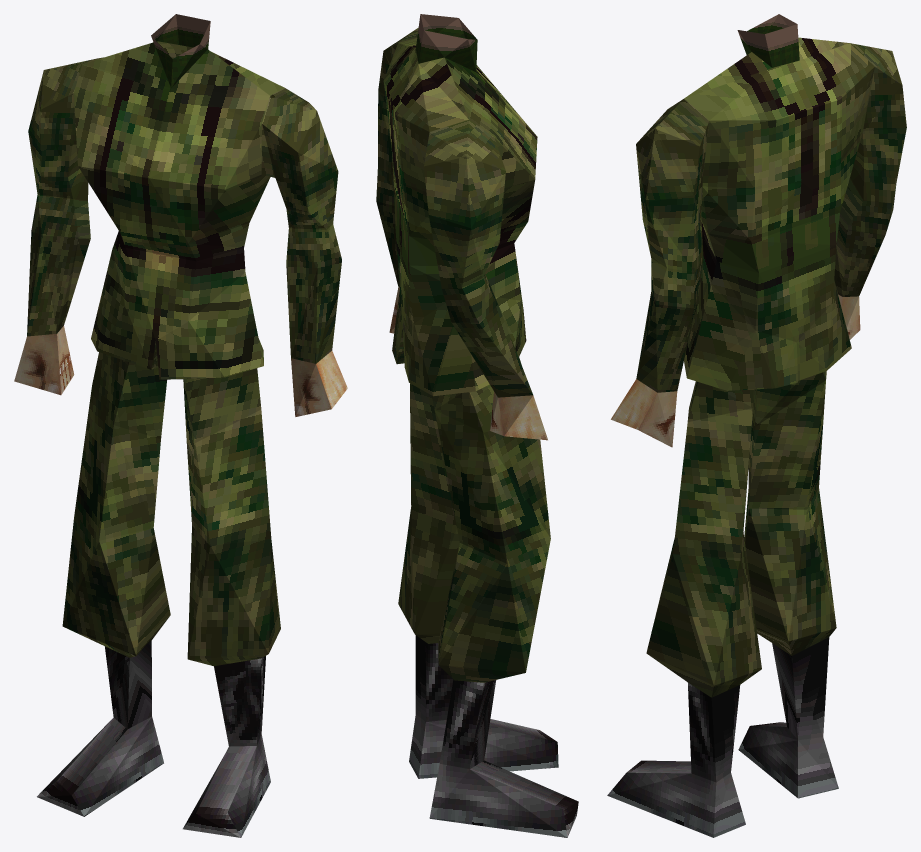
The model's file is primary_017.glb.
3 views of the same model, side by side, from view 1: azimuth 30°, elevation 25°; view 2: azimuth 150°, elevation 25°; view 3: azimuth 270°, elevation 25° (orthographic). The views are drawn at different scales.
Visible parts, largest first — view 1: Object; view 2: Object; view 3: Object.
Part boxes in pixels (x1,y1,x2,y2): Object: [14, 14, 347, 837]; Object: [376, 14, 578, 837]; Object: [607, 14, 906, 837].
Size of the model in its own units: 0.6081 by 1.83 by 0.6308.
Materials: 85 (85 with a texture image).
